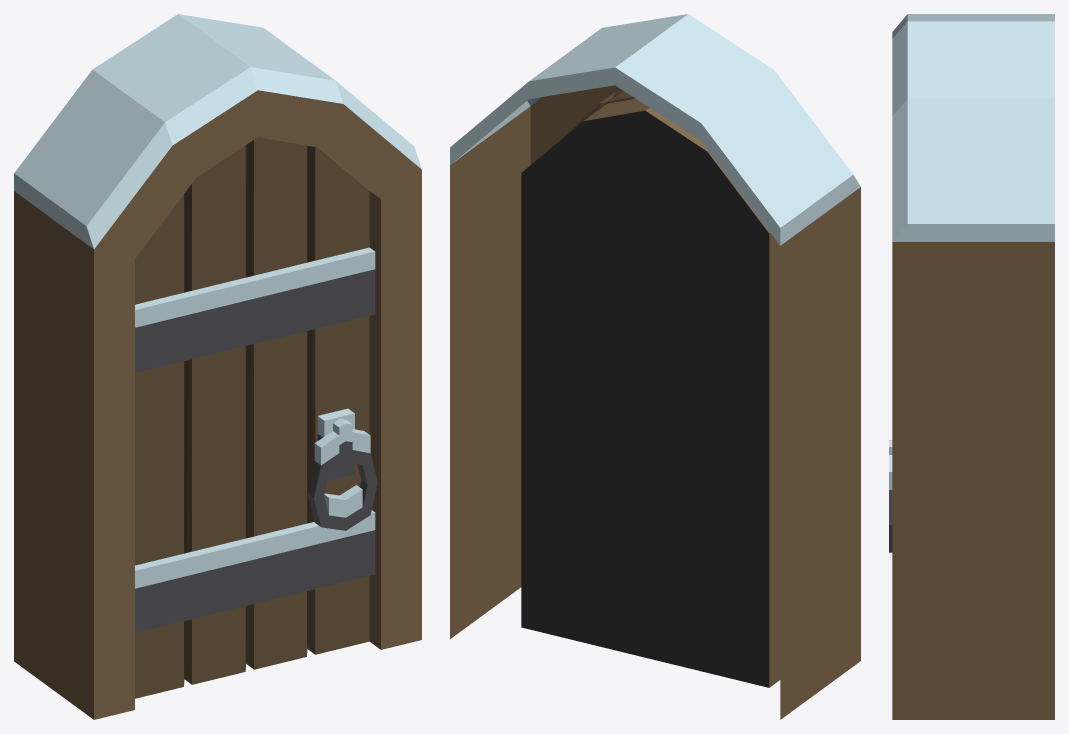
The model's file is SM_Bld_House_Door_01_Snow.gltf.
The picture shows the model from 3 angles, left to right: view 1: azimuth 30°, elevation 25°; view 2: azimuth 150°, elevation 25°; view 3: azimuth 270°, elevation 25°; orthographic projection.
Visible parts, largest first — view 1: SM_Bld_House_Door_01_Snow; view 2: SM_Bld_House_Door_01_Snow; view 3: SM_Bld_House_Door_01_Snow.
Boxes of the visible parts, bbox=[...] form: SM_Bld_House_Door_01_Snow: bbox=[14, 14, 421, 719]; SM_Bld_House_Door_01_Snow: bbox=[450, 14, 860, 719]; SM_Bld_House_Door_01_Snow: bbox=[889, 14, 1054, 719].
Bounding box in the file's own units: 1.25 × 2.22 × 0.5394.
Materials: 1 (1 with a texture image).
